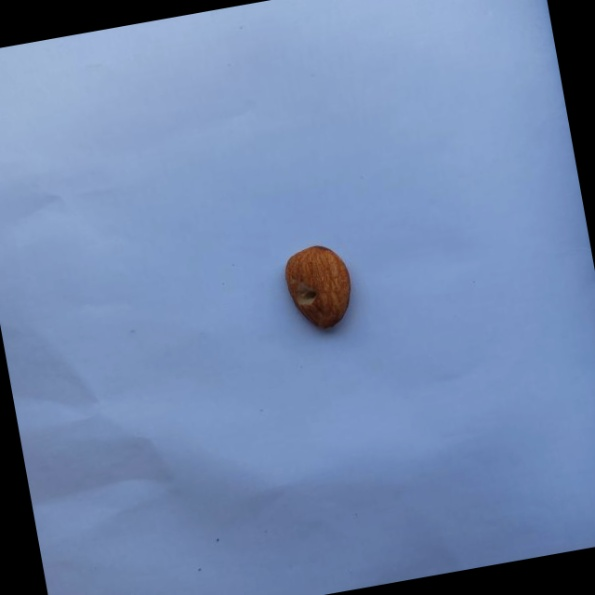grade3: (276, 237, 360, 339)
